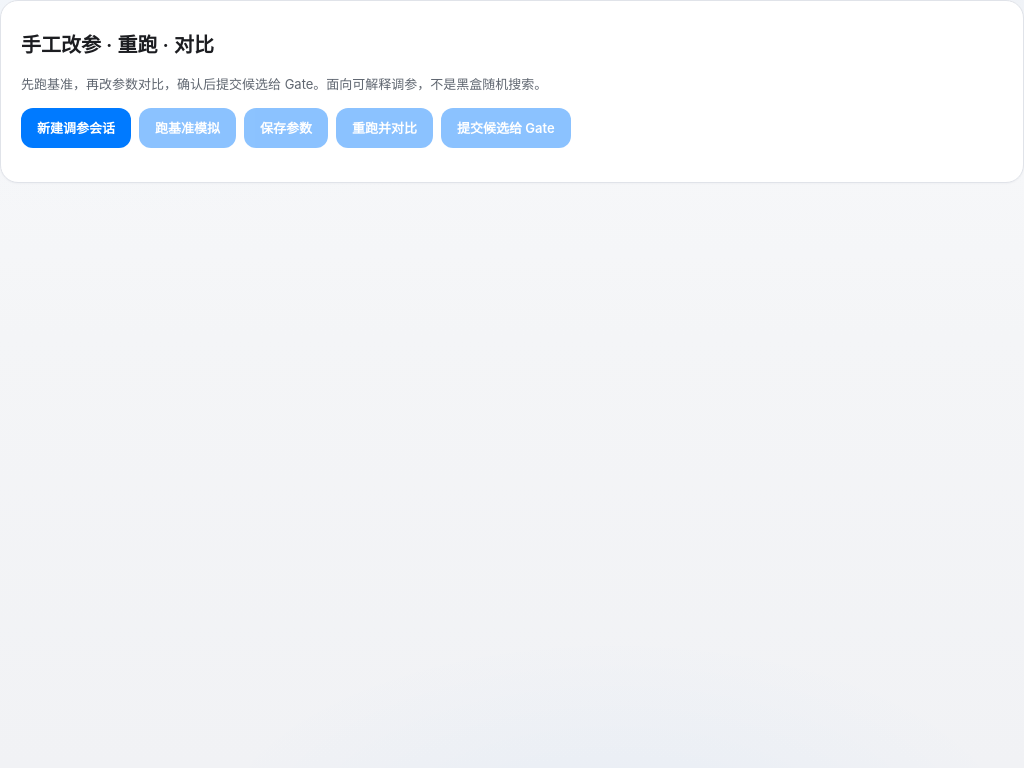
Test: HydrologistTune › renders tune actions
This screenshot has width=1024, height=768.
Click the button "新建调参会话" at (76, 128), box [21, 108, 131, 148]
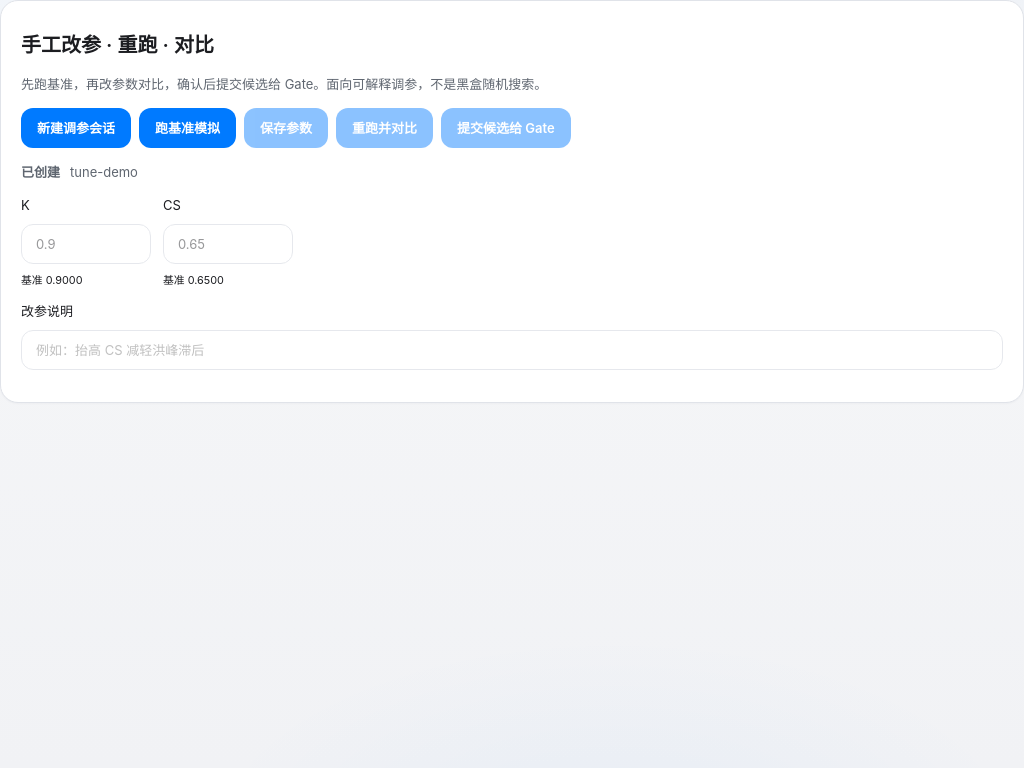
Check: the text "tune-demo" is shown, box [70, 162, 138, 182]
